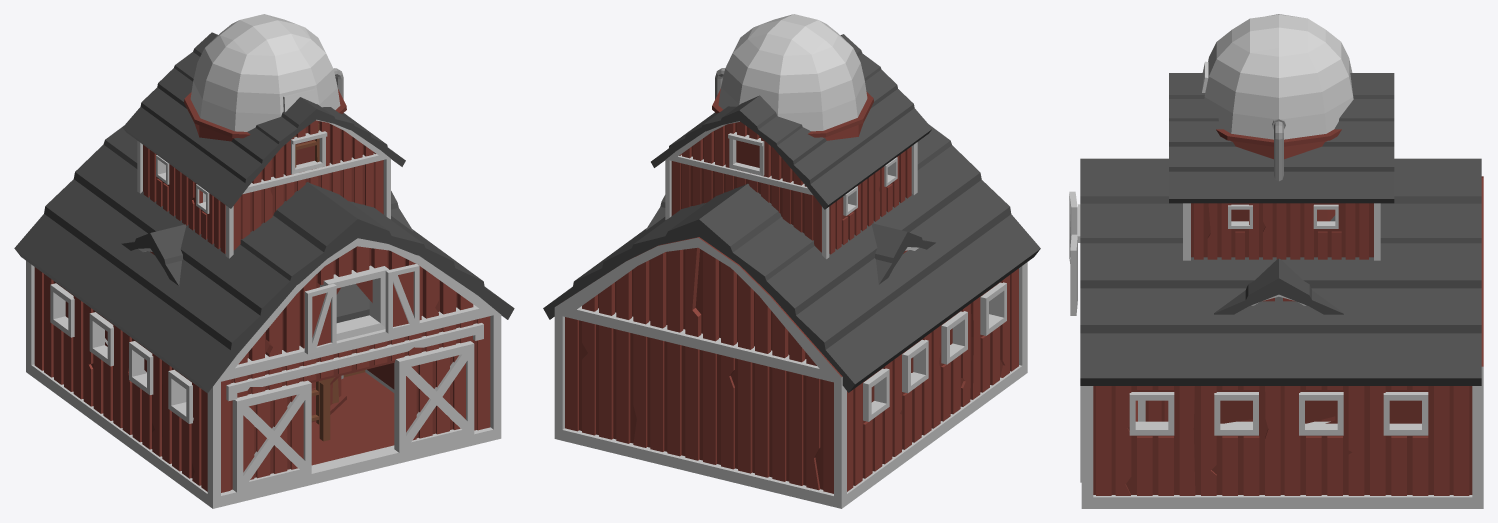
Rendered from fazenda.glb.
3 renders of one model, left to right at view 1: azimuth 30°, elevation 25°; view 2: azimuth 150°, elevation 25°; view 3: azimuth 270°, elevation 25°, orthographic. The views are drawn at different scales.
Visible parts, largest first — view 1: BigBarn, Silo, OpenBarn; view 2: BigBarn, Silo, OpenBarn; view 3: BigBarn, Silo, OpenBarn.
Boxes of the visible parts, bbox=[...] form: BigBarn: bbox=[14, 32, 514, 508]; Silo: bbox=[184, 14, 346, 424]; OpenBarn: bbox=[121, 191, 413, 441]; BigBarn: bbox=[543, 34, 1040, 508]; Silo: bbox=[712, 14, 873, 140]; OpenBarn: bbox=[645, 195, 935, 284]; BigBarn: bbox=[1069, 73, 1483, 508]; Silo: bbox=[1202, 14, 1353, 221]; OpenBarn: bbox=[1138, 258, 1343, 421].
Size of the model in its own units: 7.73 by 9.09 by 8.22.
